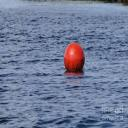red: (64, 42, 85, 72)
